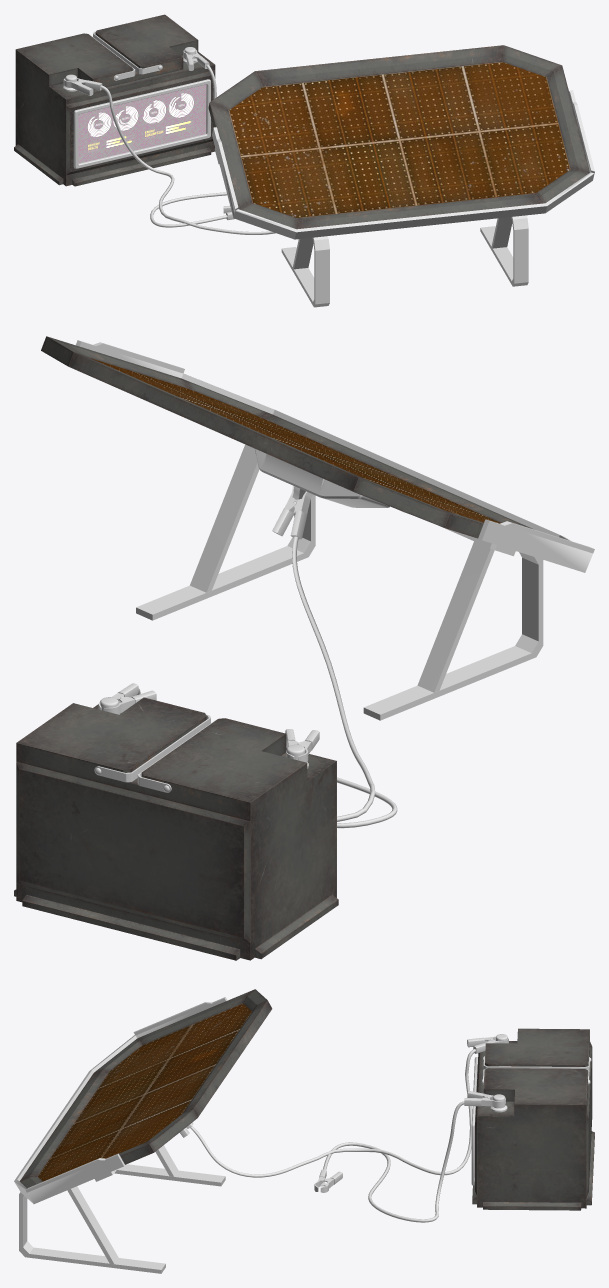
The model's file is SolarPanel.fbx.
3 views of the same model, one above another, from view 1: azimuth 30°, elevation 25°; view 2: azimuth 150°, elevation 25°; view 3: azimuth 270°, elevation 25° (orthographic). The views are drawn at different scales.
Parts seen in each view (by area): view 1: SolarPanel; view 2: SolarPanel; view 3: SolarPanel.
Part boxes in pixels (x1=…): SolarPanel: x1=14, y1=14, x2=594, y2=307; SolarPanel: x1=14, y1=336, x2=594, y2=960; SolarPanel: x1=14, y1=989, x2=594, y2=1273.
Size of the model in its own units: 0.892 by 0.4163 by 1.24.
